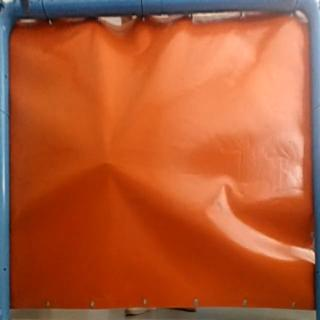Hit-hRxx: (99, 156, 116, 168)
